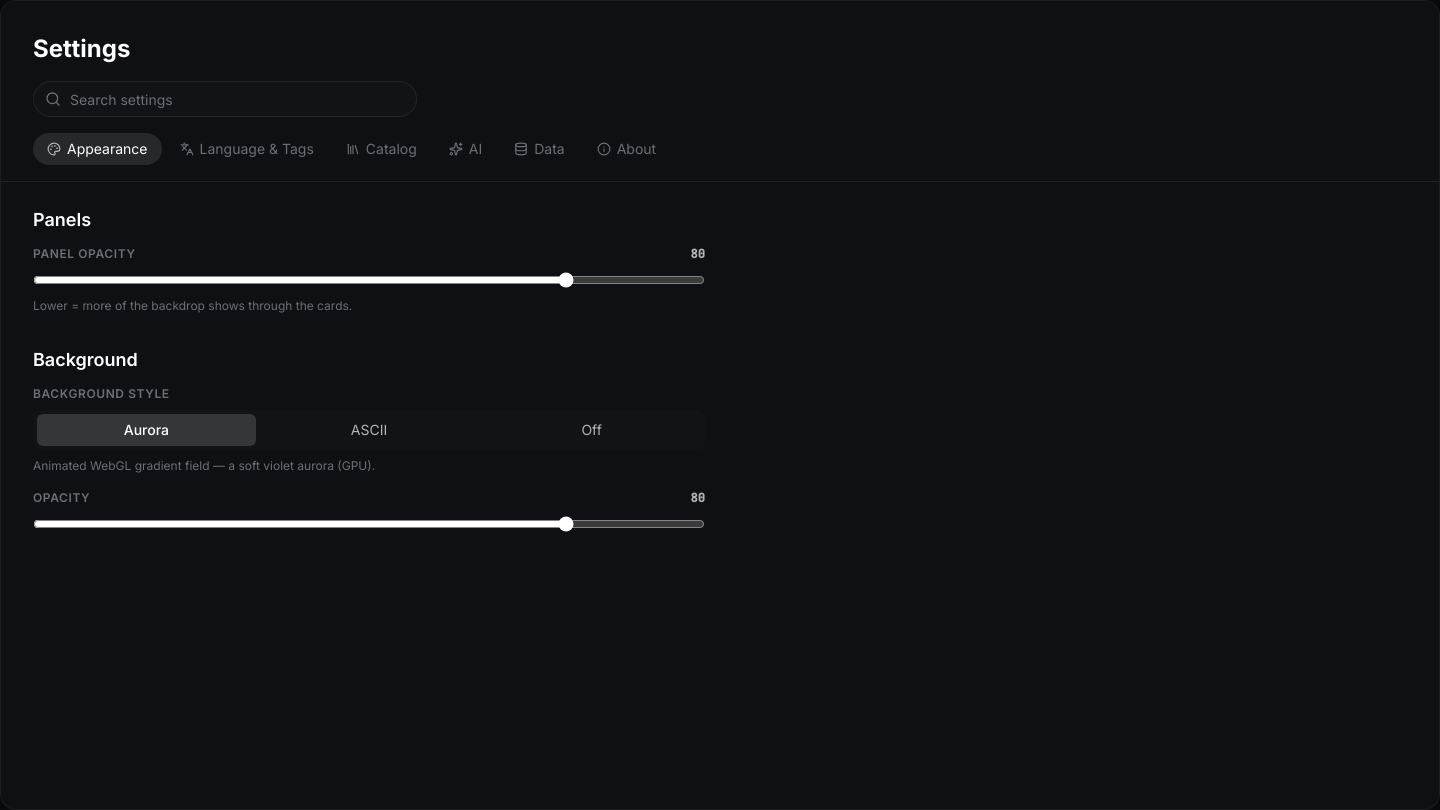
Test: SettingsPanel › renders Storage section
Click the tab "Data" at (539, 149), box top-left (500, 133), bottom-right (579, 165)
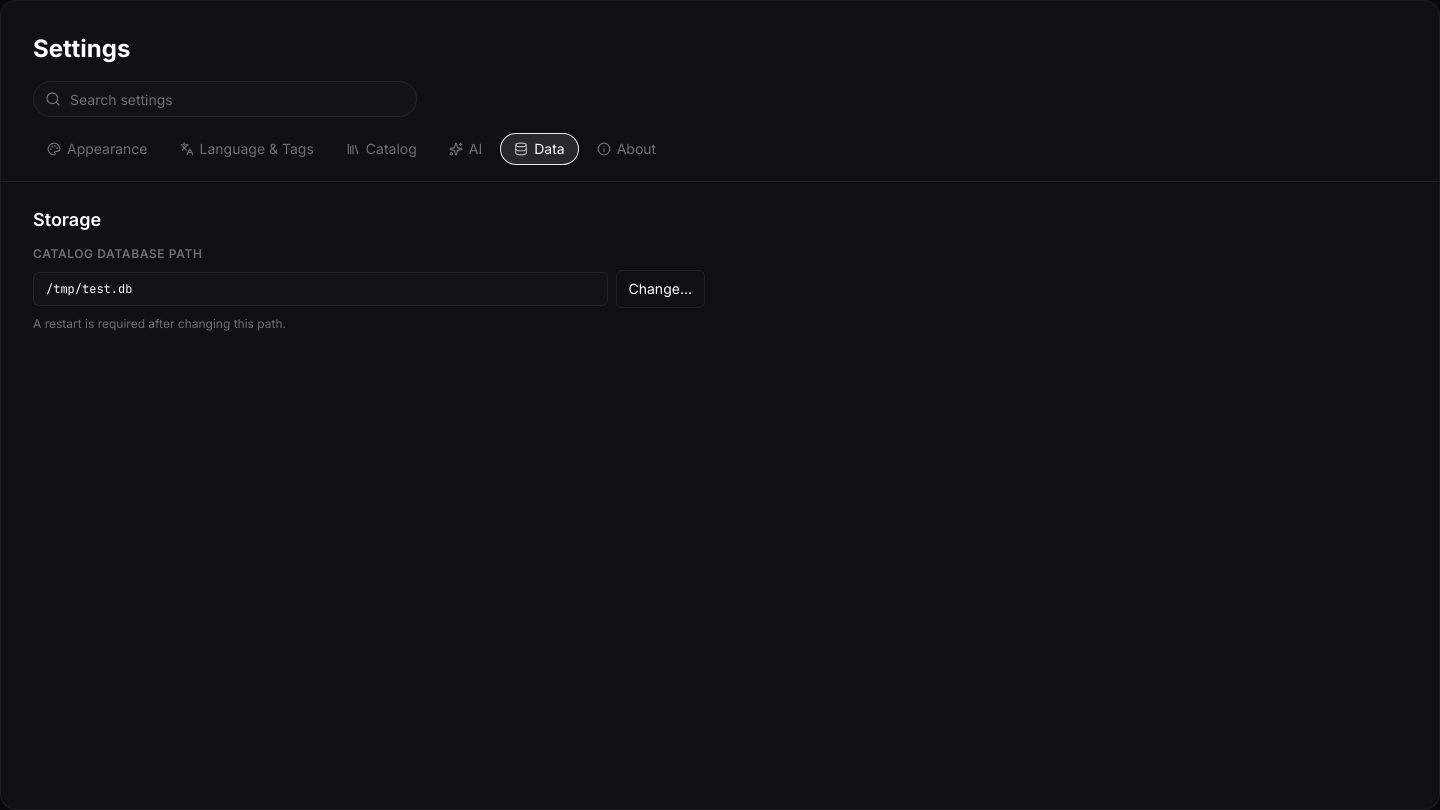
Result: the heading "Storage" is shown at top-left (33, 209), bottom-right (101, 230)
